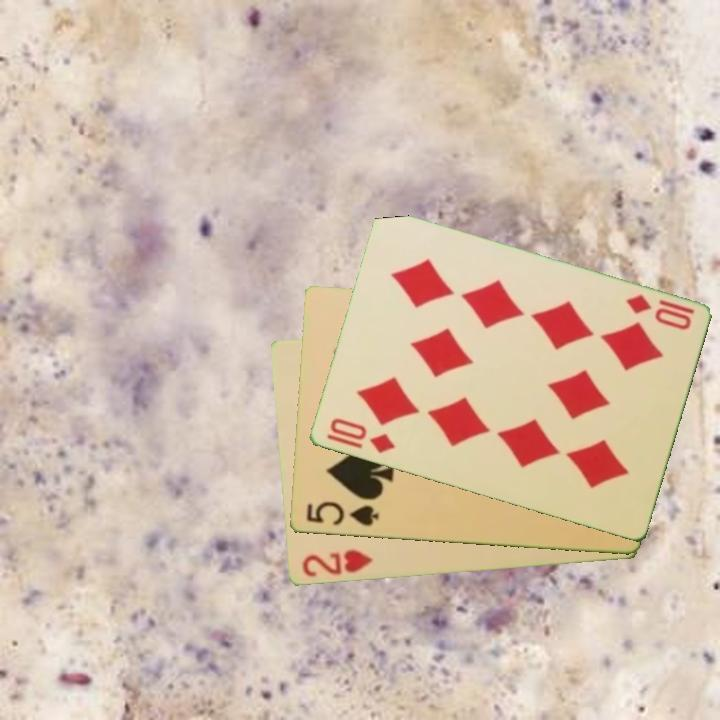10d: (325, 414, 398, 457), (622, 291, 694, 333)
2h: (298, 546, 375, 581)
5s: (302, 498, 381, 529)
